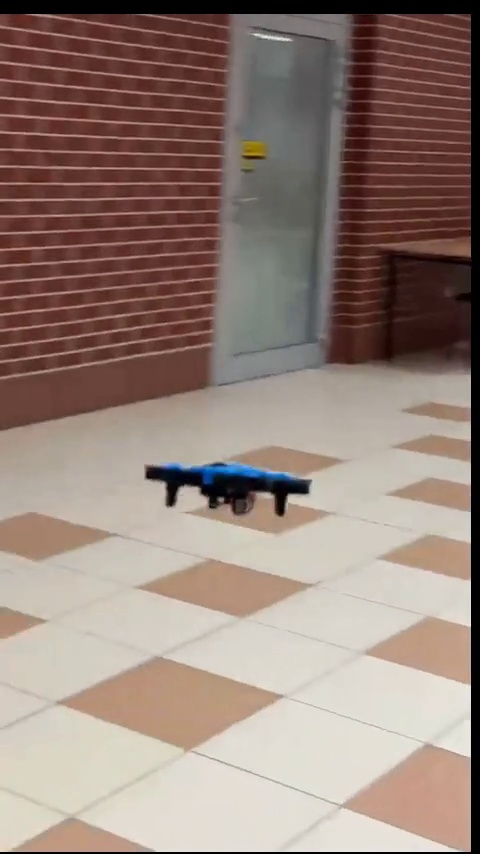drone: (144, 461, 314, 524)
